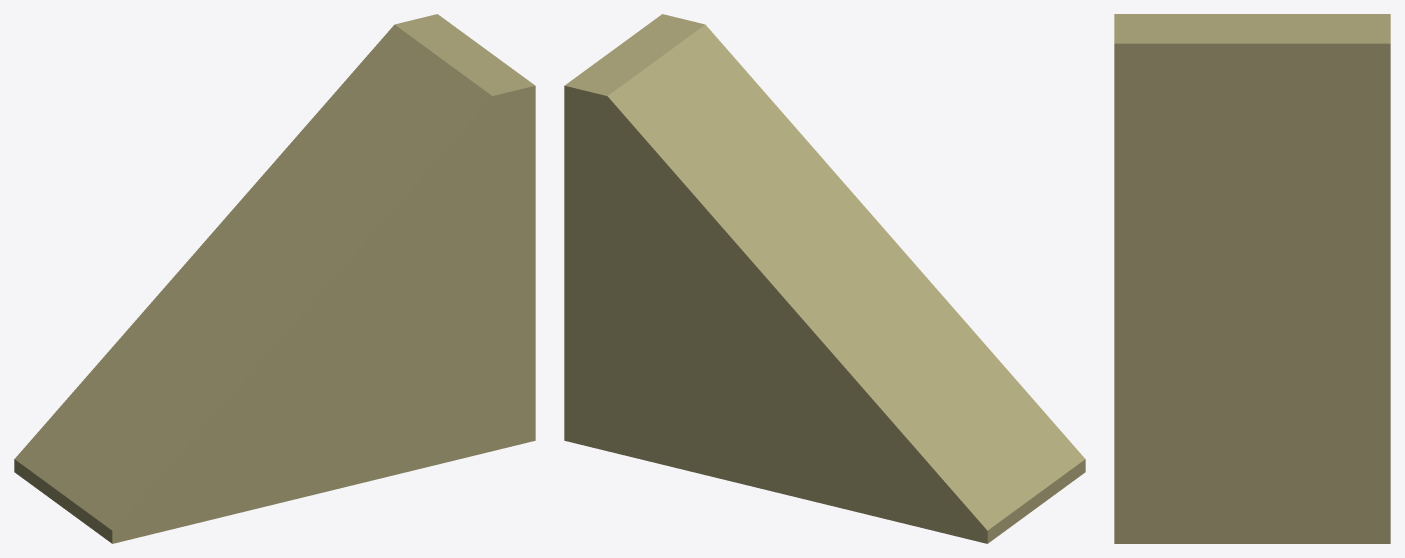
The model's file is Stairs.fbx.
3 renders of one model, left to right at view 1: azimuth 30°, elevation 25°; view 2: azimuth 150°, elevation 25°; view 3: azimuth 270°, elevation 25°, orthographic. The views are drawn at different scales.
Visible parts, largest first — view 1: Stairs; view 2: Stairs; view 3: Stairs.
Boxes of the visible parts, <box> form: Stairs: <box>14,14,535,543</box>; Stairs: <box>564,14,1085,543</box>; Stairs: <box>1114,14,1390,543</box>.
Bounding box in the file's own units: 499 × 400 × 200.
